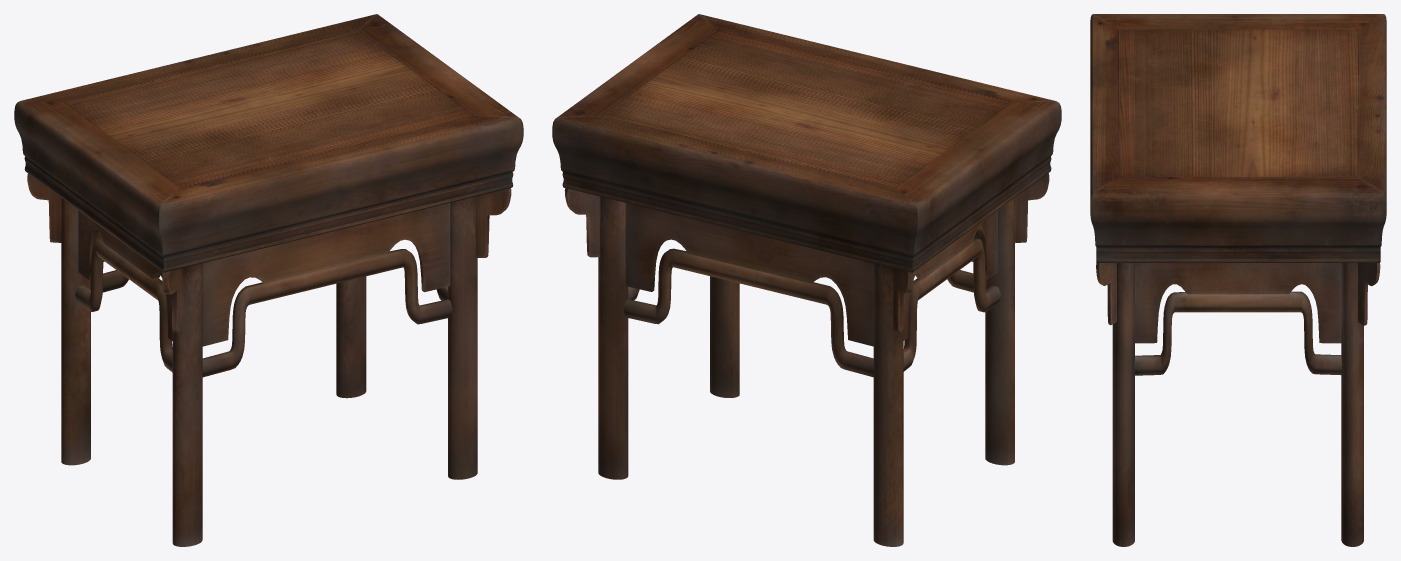
File: PROP_WarmWood_Table_A.glb
The picture shows the model from 3 angles, left to right: view 1: azimuth 30°, elevation 25°; view 2: azimuth 150°, elevation 25°; view 3: azimuth 270°, elevation 25°; orthographic projection. The views are drawn at different scales.
Visible parts, largest first — view 1: PROP_WarmWood_Table_A; view 2: PROP_WarmWood_Table_A; view 3: PROP_WarmWood_Table_A.
Boxes of the visible parts, bbox=[...] form: PROP_WarmWood_Table_A: bbox=[14, 14, 523, 546]; PROP_WarmWood_Table_A: bbox=[552, 14, 1061, 546]; PROP_WarmWood_Table_A: bbox=[1090, 14, 1386, 546].
Size of the model in its own units: 0.817 by 0.766 by 0.56.
Materials: 1 (1 with a texture image).
